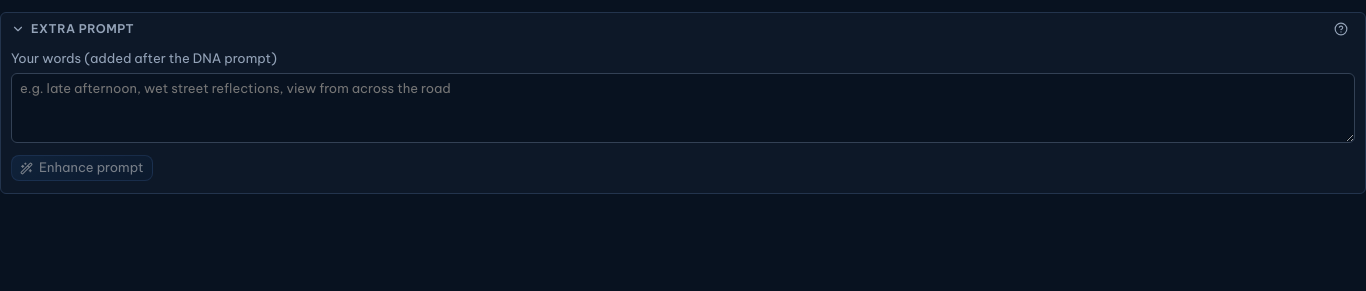
Scenario: ExtraPromptSection › previews, accepts (undo-able) and discards an enhancement
Replace the text in the text box with test id "extra-prompt" with "villa at dusk" at point(683, 108), box [11,72,1355,143]
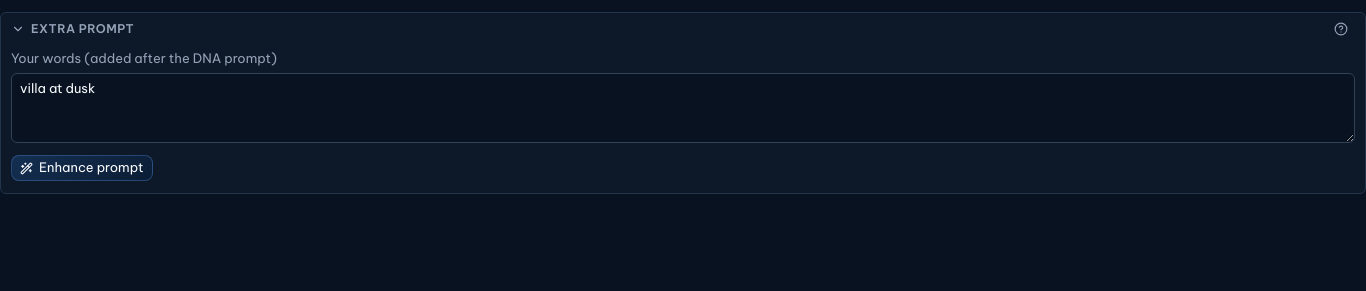
Click the button with test id "enhance-button".
click(82, 168)  # box [11,155,152,181]
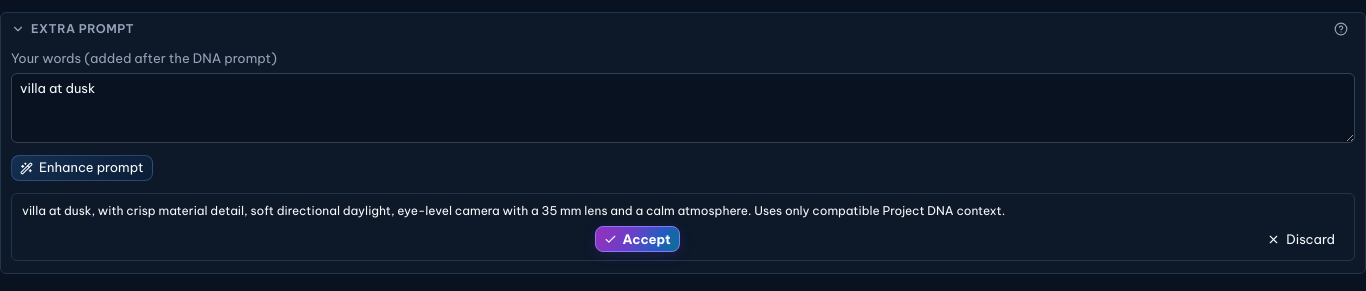
Result: the element with test id "enhance-preview" shows "villa at dusk, with crisp material detail" at [22,203,1005,218]
Click the button with test id "enhance-accept".
click(637, 239)  # box [594,226,680,252]
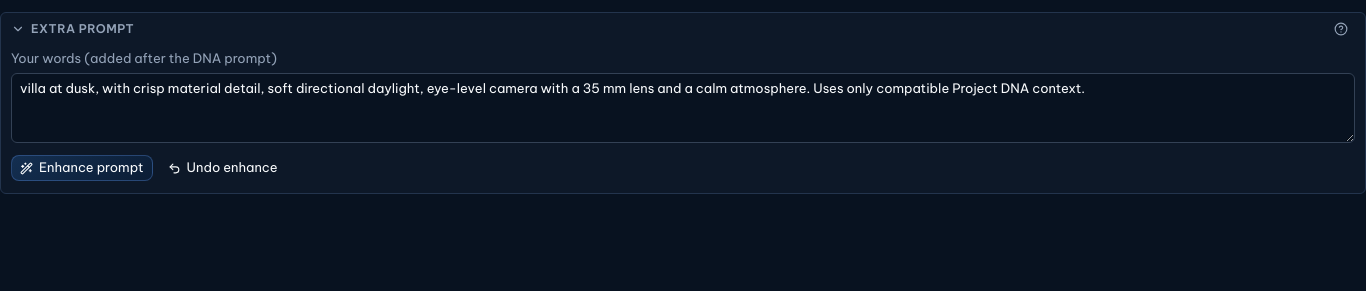
Click the button with test id "enhance-undo".
click(223, 168)  # box [158,155,287,181]
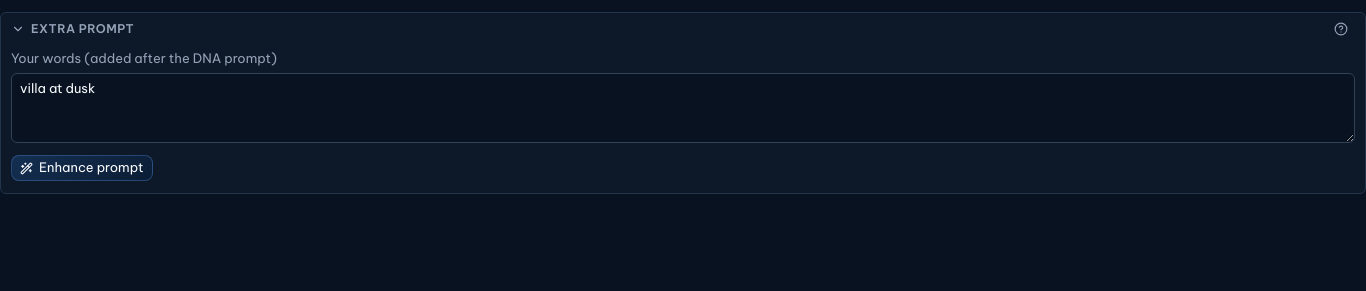
Result: the button with test id "enhance-undo" is gone
Click the button with test id "enhance-button".
click(82, 168)  # box [11,155,152,181]
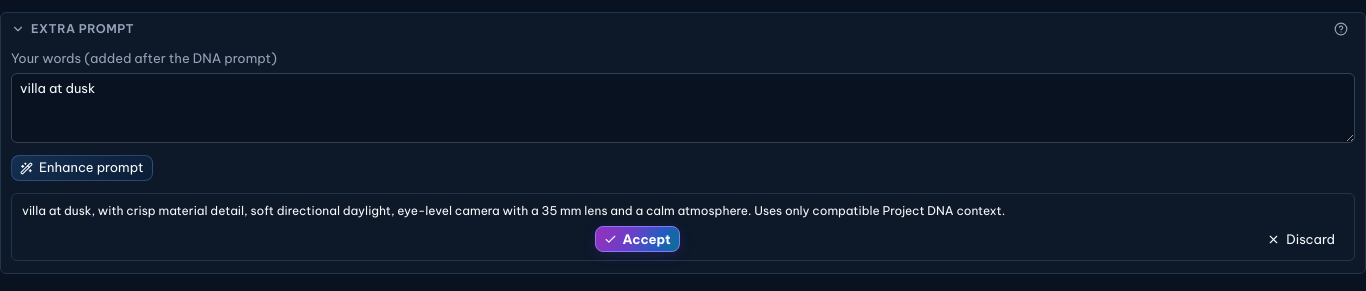
Result: the element with test id "enhance-preview" is shown at [11,193,1355,261]
Click the button with test id "enhance-discard".
click(1301, 239)  # box [1258,226,1344,252]
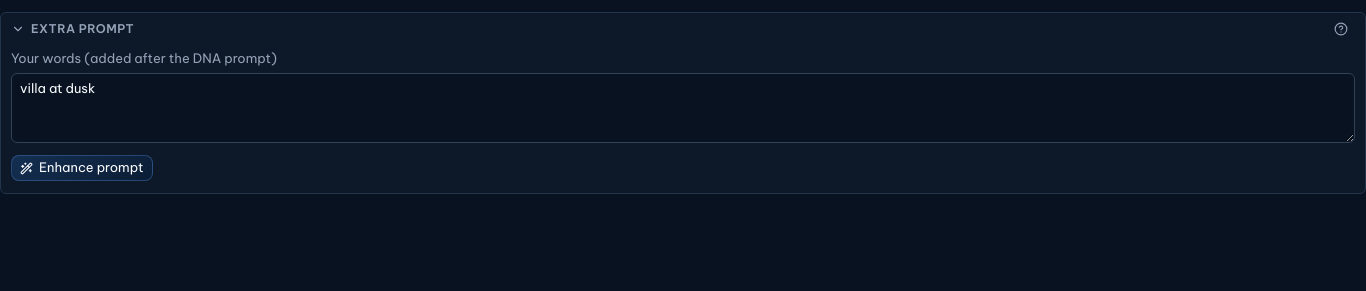
Result: the element with test id "enhance-preview" is gone
